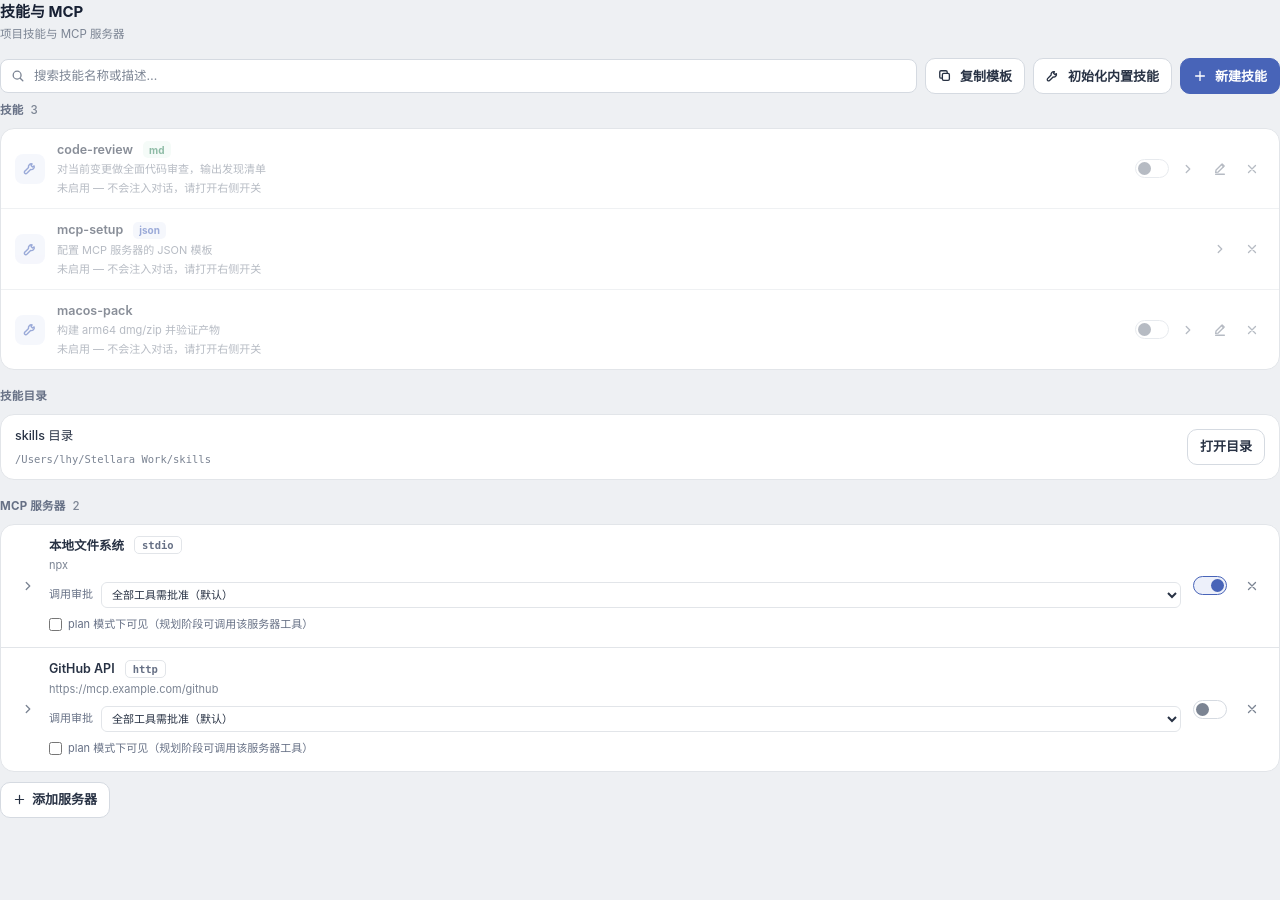
Test: SettingsSkillsMcp（技能与 MCP 面板） › MCP 添加表单 › opens the add form and switches between stdio and http fields
Click the button with class "settings-mcp-add-trigger" at [55, 800], box [0,782,110,818]
(page scrolled)
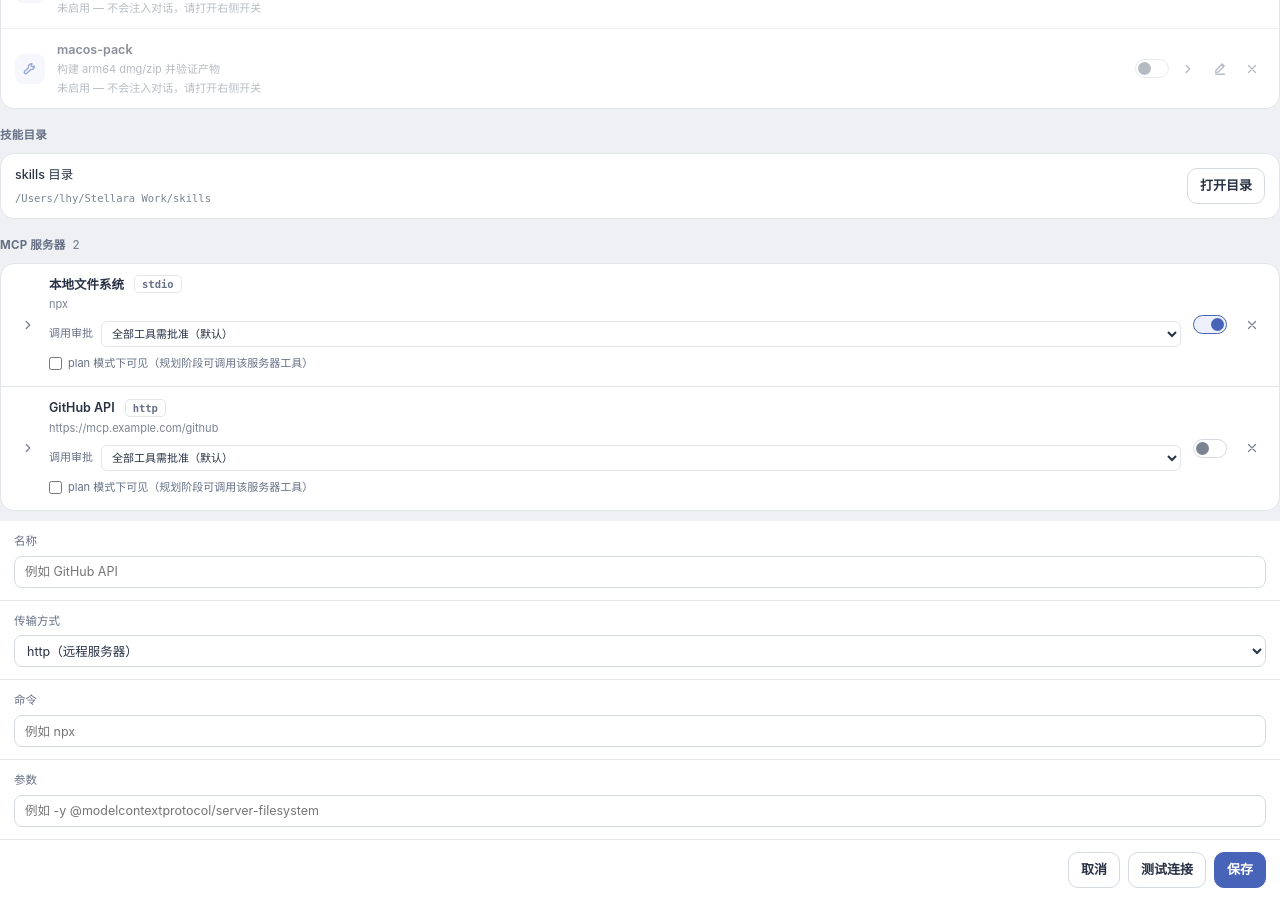
Now the element with class "settings-mcp-form" is shown, box [0,521,1279,899]
Now the element with class "settings-mcp-field-command" is shown, box [0,679,1279,759]
Now the element with class "settings-mcp-field-args" is shown, box [0,759,1279,839]
Select "http（远程服务器）" in the dropdown with class "settings-mcp-transport" at [640, 651], box [14,635,1266,667]
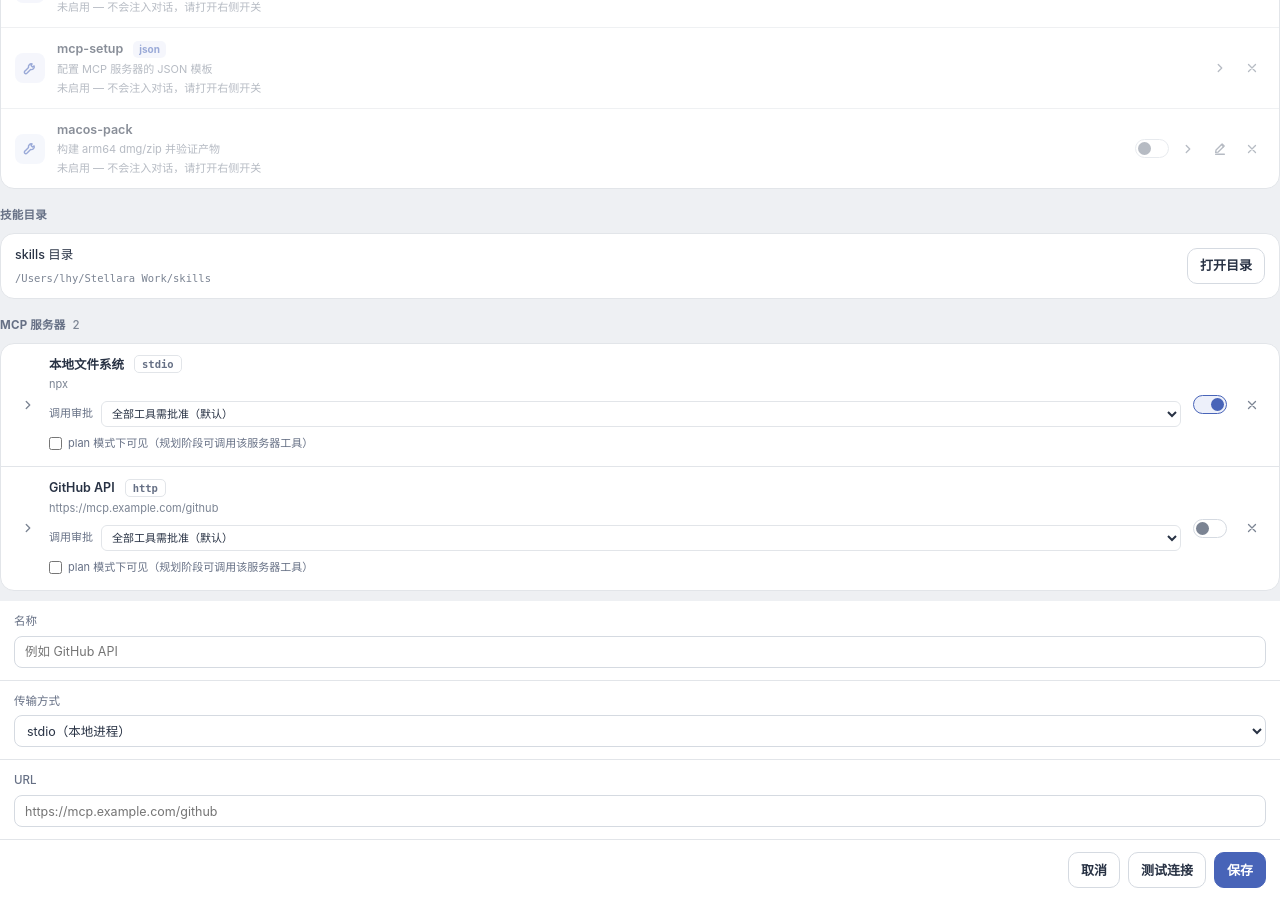
Now the element with class "settings-mcp-field-command" is gone
Now the element with class "settings-mcp-field-args" is gone
Now the element with class "settings-mcp-field-url" is shown, box [0,759,1279,839]
Select "stdio（本地进程）" in the dropdown with class "settings-mcp-transport" at [640, 731], box [14,715,1266,747]
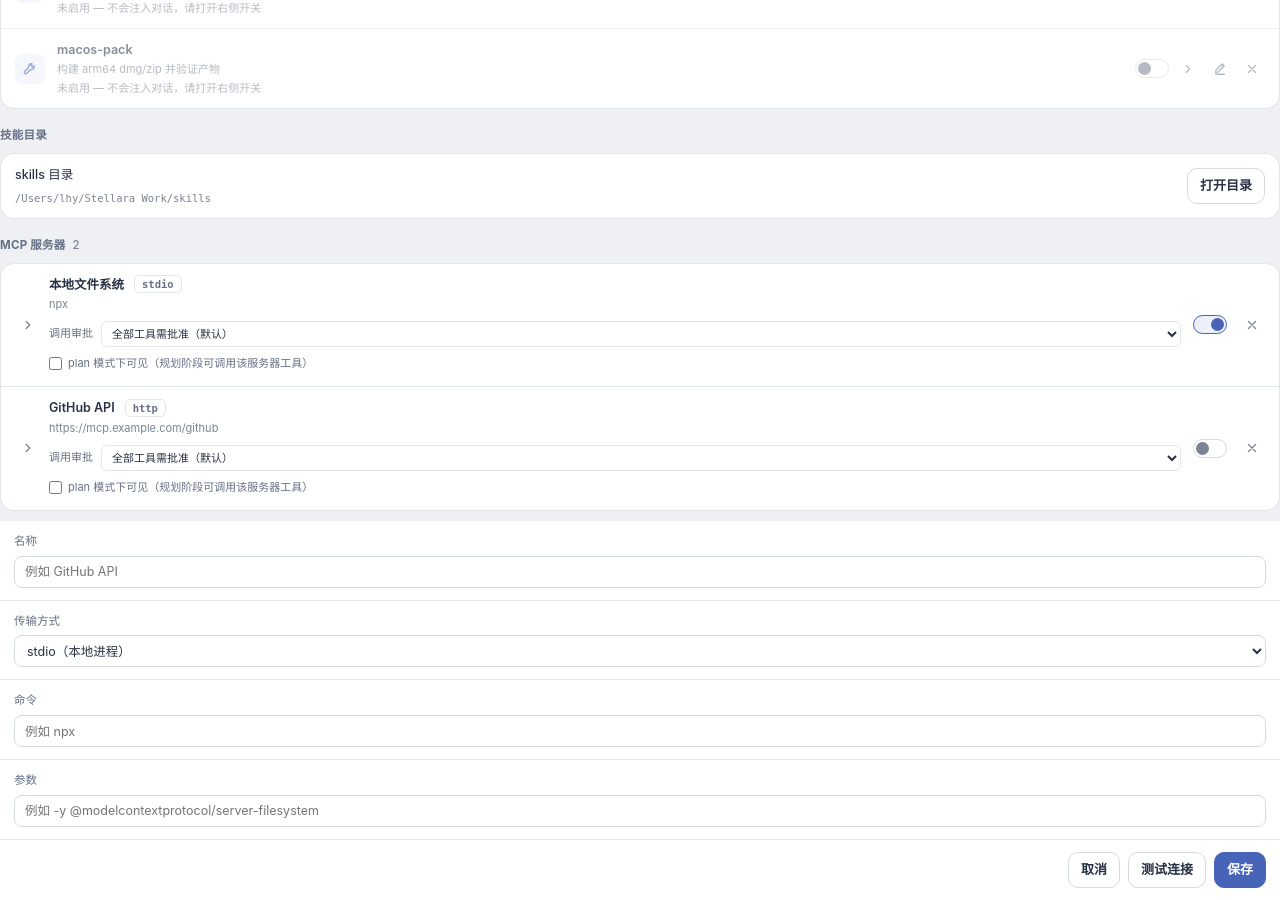
Now the element with class "settings-mcp-field-command" is shown, box [0,679,1279,759]
Now the element with class "settings-mcp-field-url" is gone
